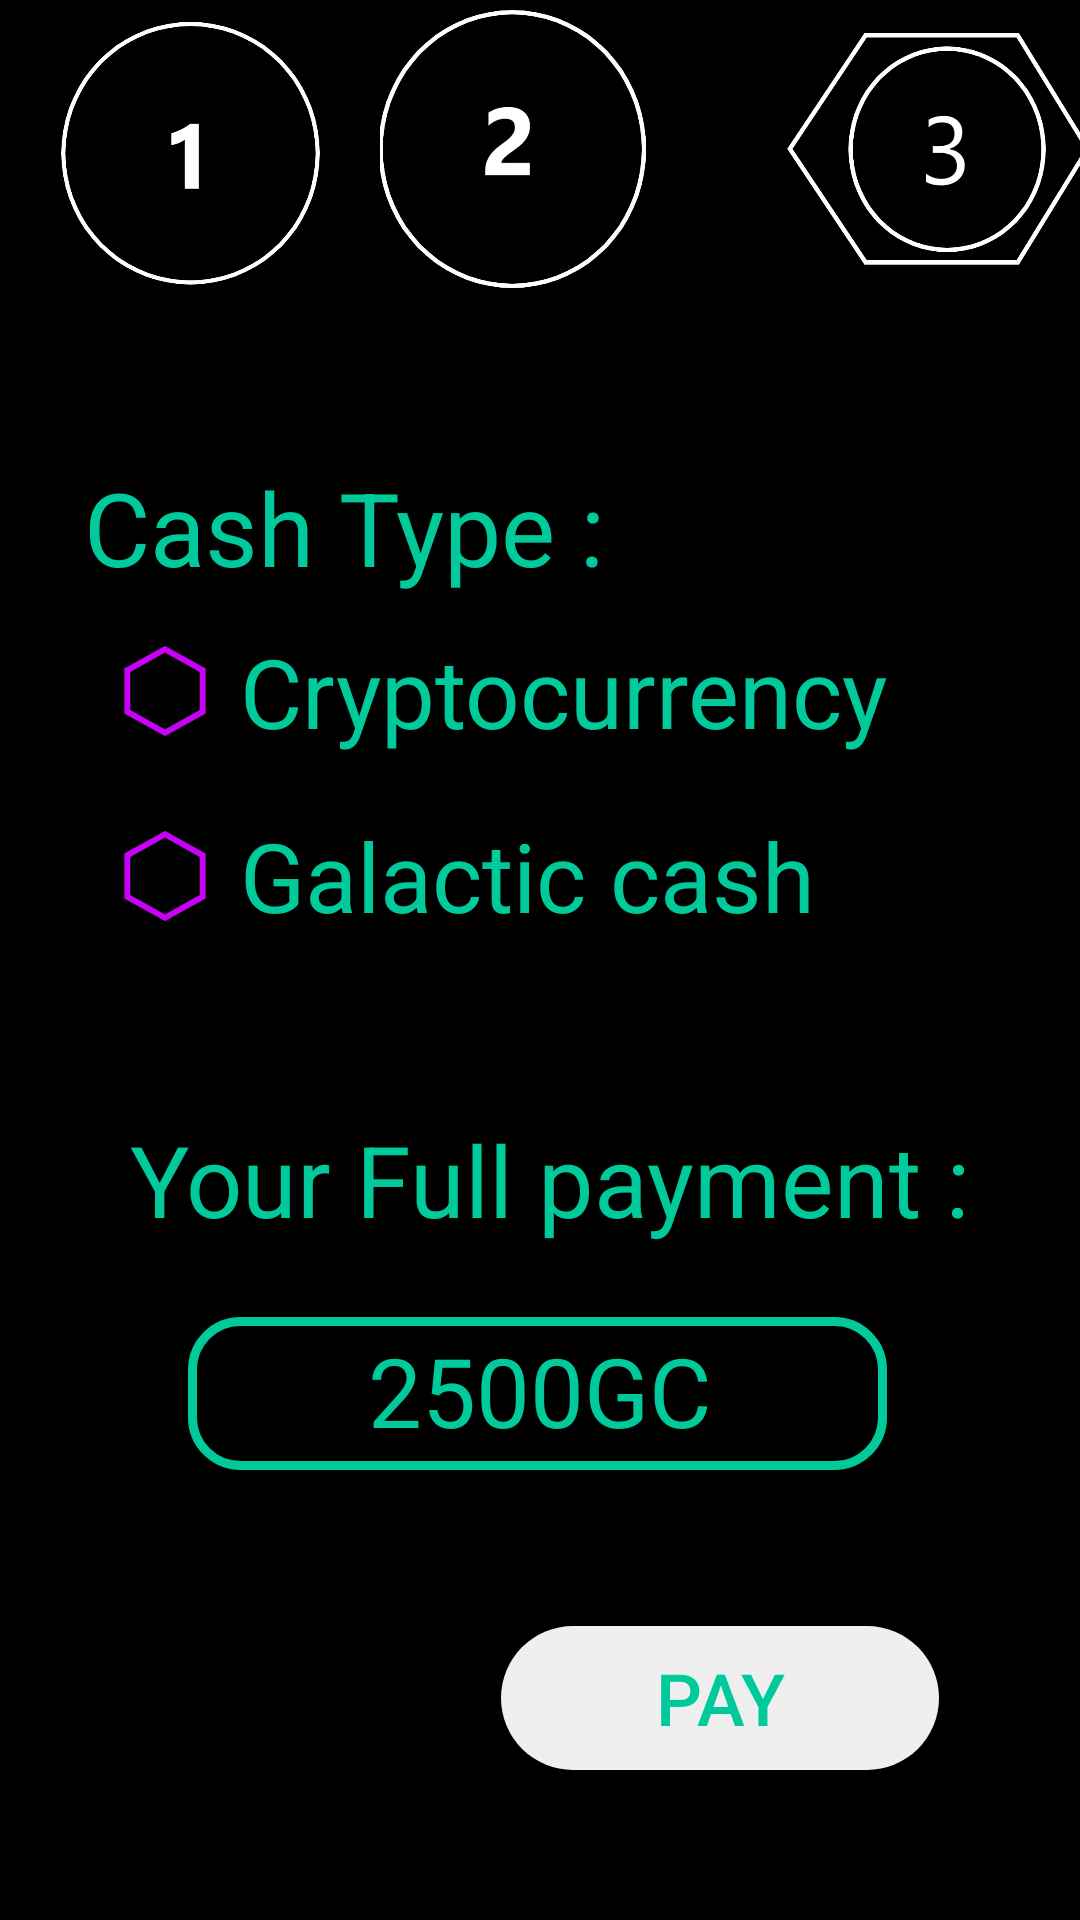

Where to tap for icons on this 1080 × 1920 app screen, as (x=x, y=y):
num: (x=513, y=149), (x=190, y=153)
